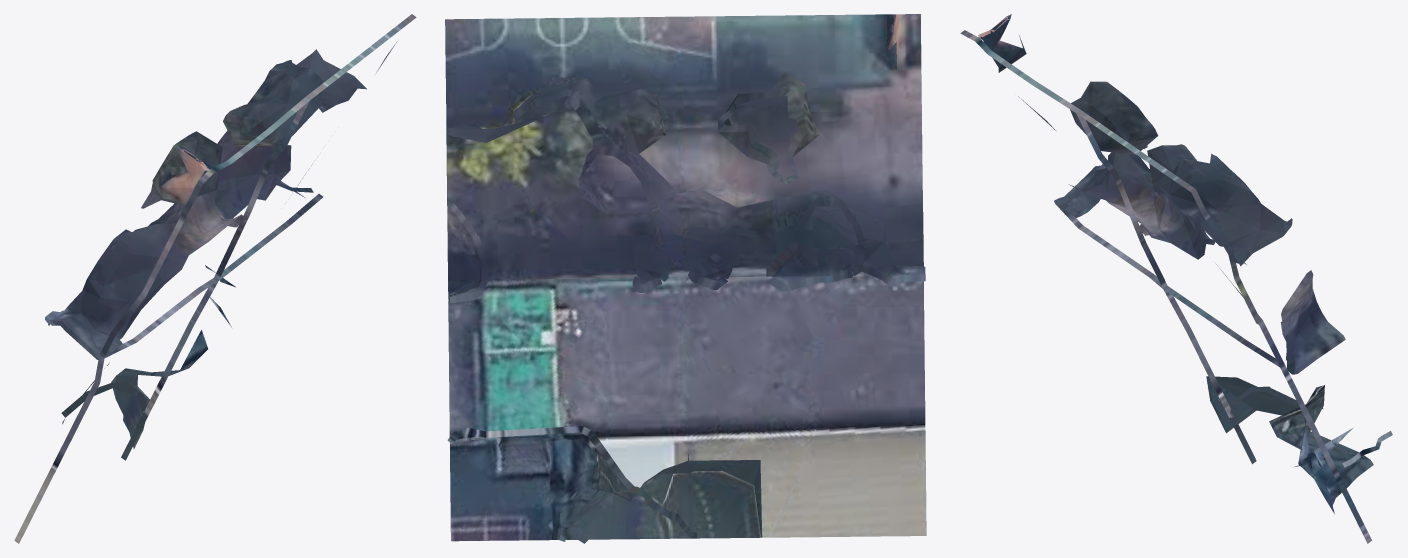
3 renders of one model, left to right at view 1: azimuth 30°, elevation 25°; view 2: azimuth 150°, elevation 25°; view 3: azimuth 270°, elevation 25°, orthographic. The views are drawn at different scales.
Size of the model in its own units: 38.26 by 36.1 by 34.02.
Materials: 1 (1 with a texture image).
